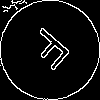F: (25, 25, 80, 78)
